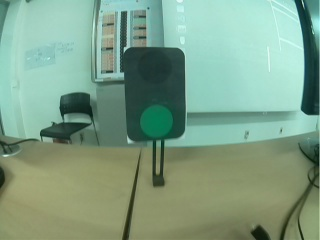green_light: (123, 46, 184, 139)
